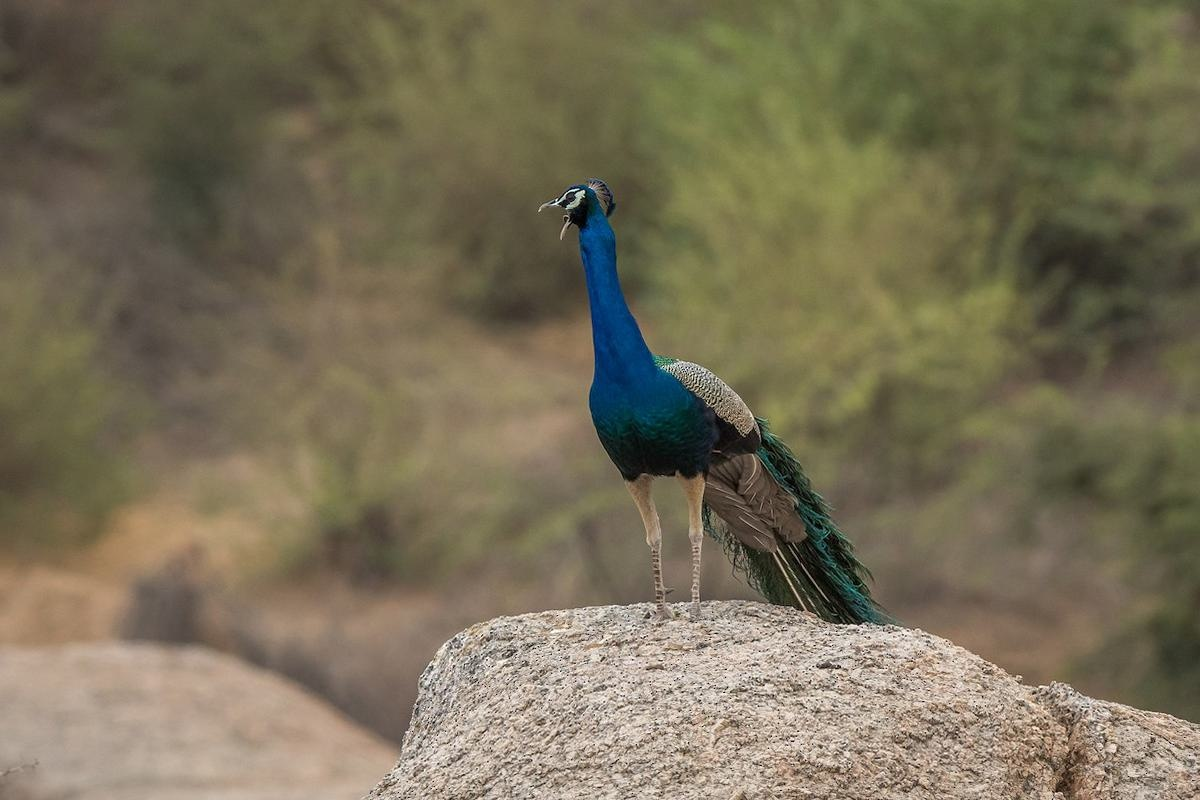peacock: (526, 143, 933, 651)
